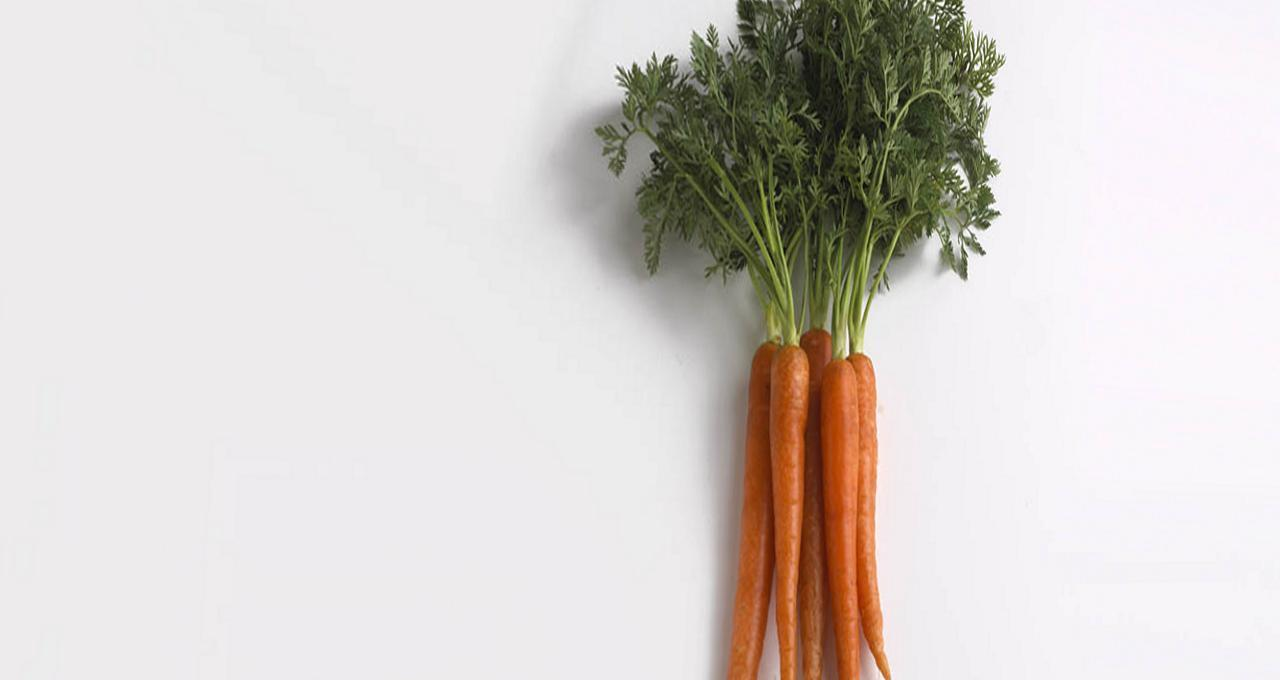carrot: (680, 78, 918, 680), (734, 321, 900, 680), (751, 344, 817, 665)
